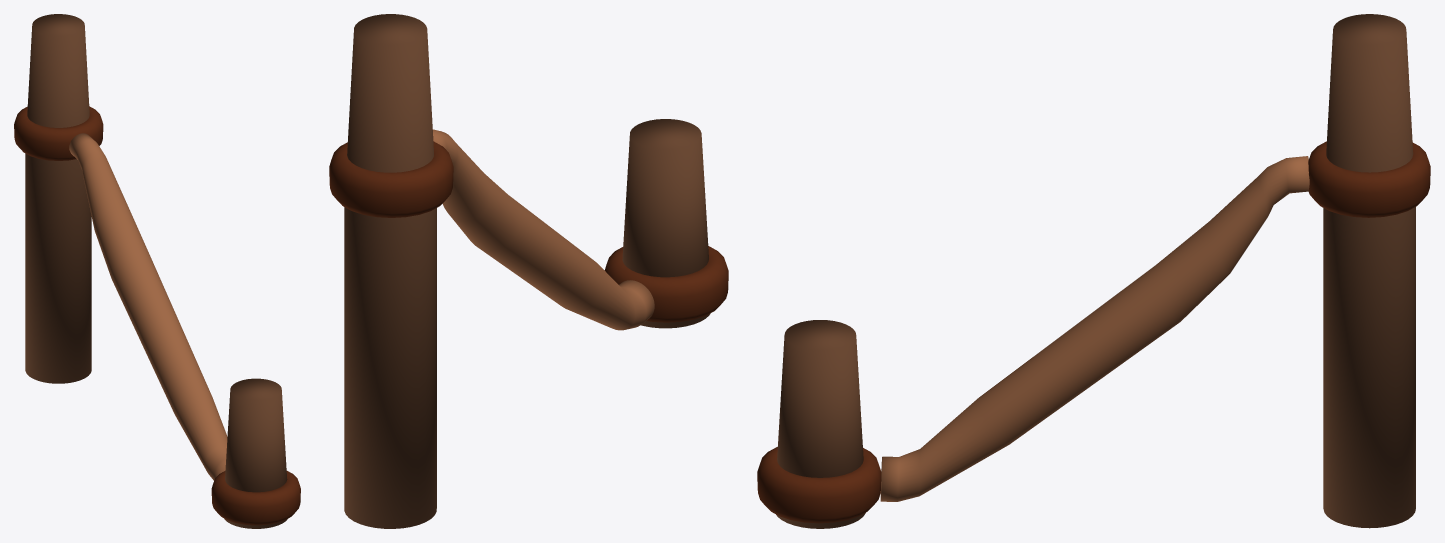
File: fence_wood.glb
3 renders of one model, left to right at view 1: azimuth 30°, elevation 25°; view 2: azimuth 150°, elevation 25°; view 3: azimuth 270°, elevation 25°, orthographic. The views are drawn at different scales.
Visible parts, largest first — view 1: fence_wood; view 2: fence_wood; view 3: fence_wood.
Part boxes in pixels (<box>): fence_wood: <box>14,14,300,528</box>; fence_wood: <box>329,14,728,528</box>; fence_wood: <box>757,14,1430,528</box>.
Size of the model in its own units: 1.14 by 4.84 by 6.16.
